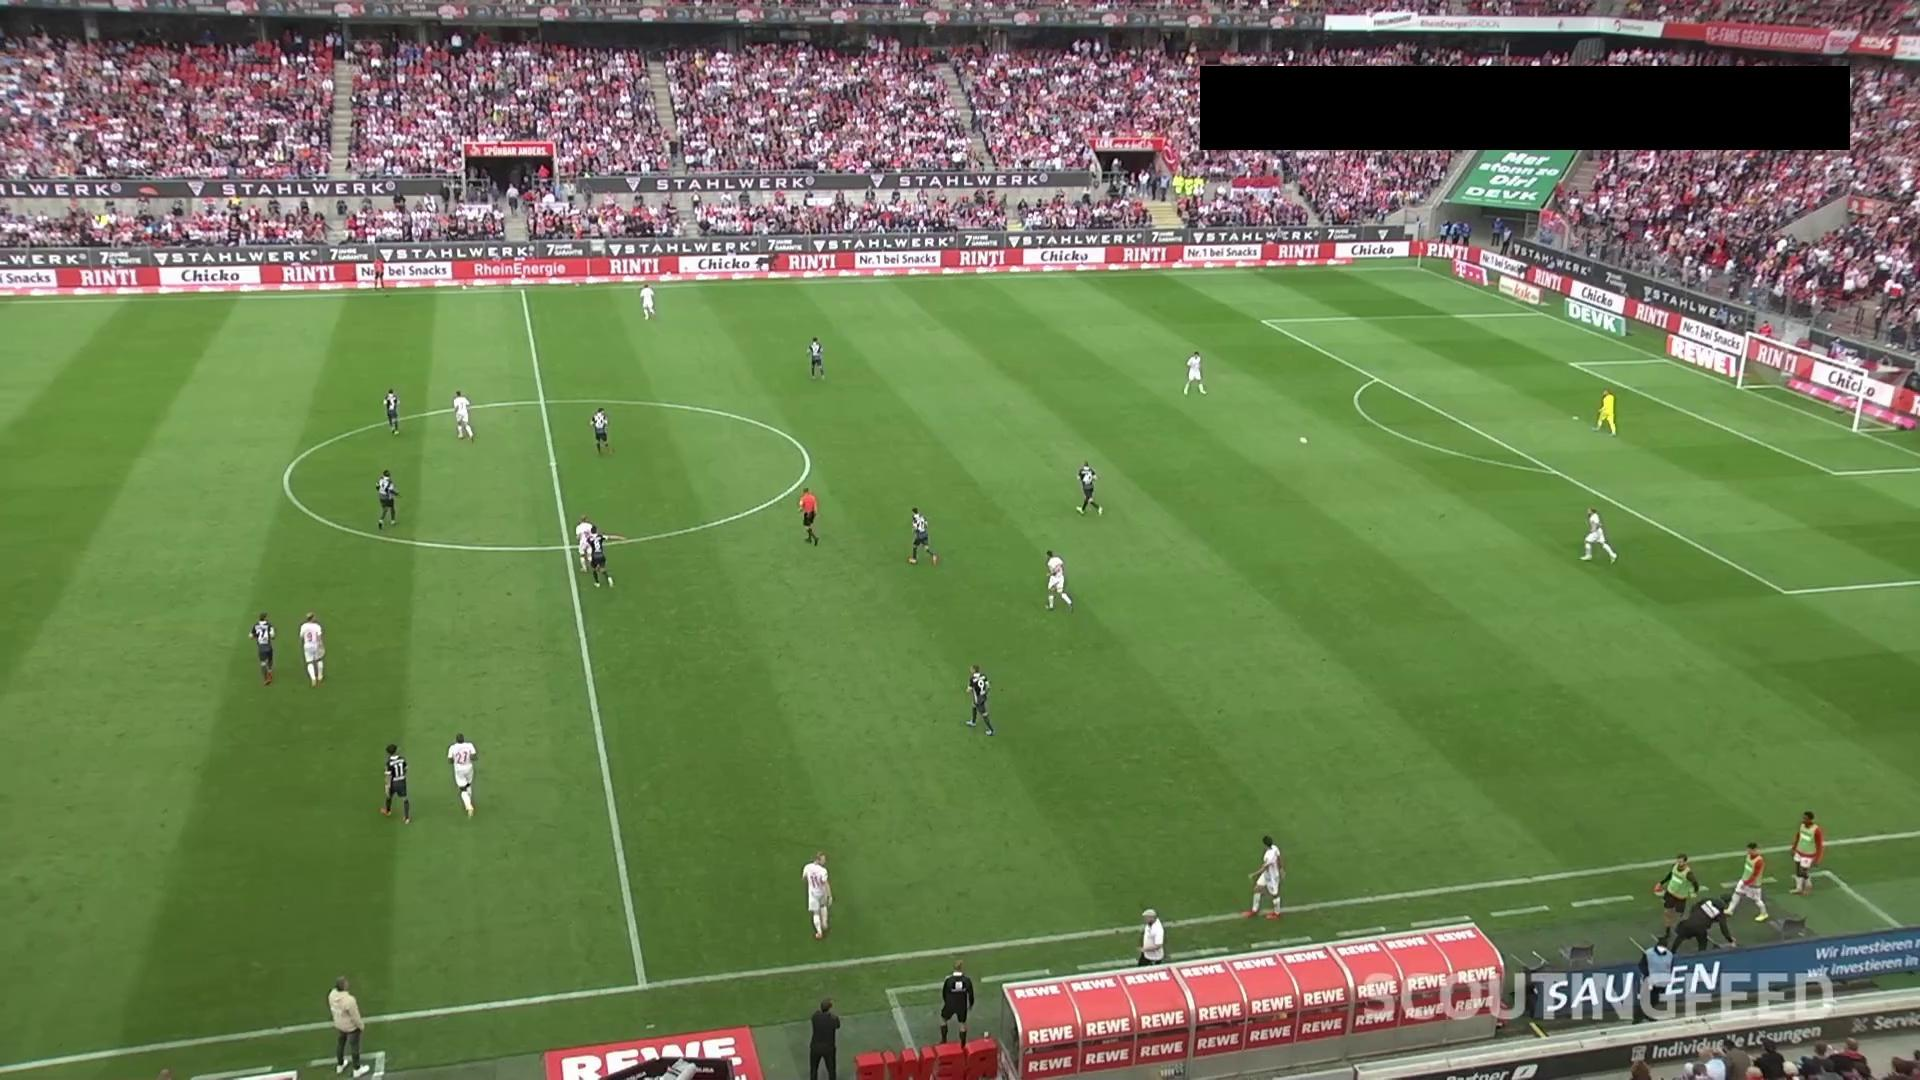Location-of-ball: (1294, 430, 1319, 450)
